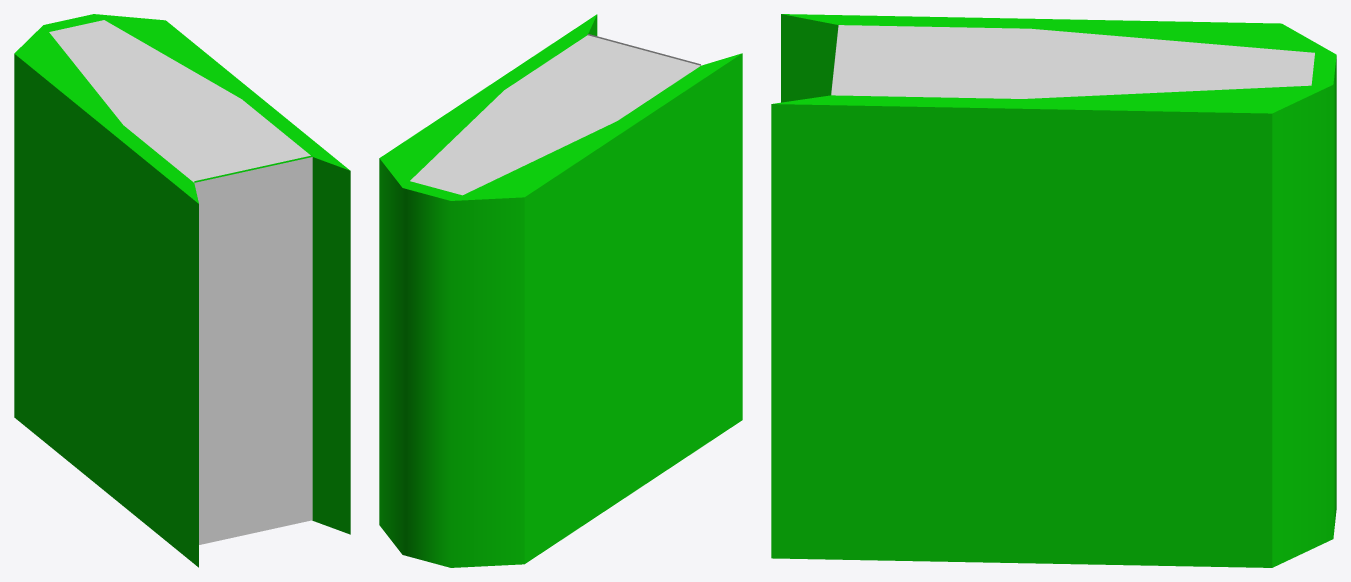
Rendered from Book(Green).fbx.
The picture shows the model from 3 angles, left to right: view 1: azimuth 30°, elevation 25°; view 2: azimuth 150°, elevation 25°; view 3: azimuth 270°, elevation 25°; orthographic projection. The views are drawn at different scales.
Parts seen in each view (by area): view 1: Book_Green; view 2: Book_Green; view 3: Book_Green.
Boxes of the visible parts, <box> form: Book_Green: <box>14,14,350,567</box>; Book_Green: <box>379,14,742,567</box>; Book_Green: <box>771,14,1336,567</box>.
Size of the model in its own units: 0.1932 by 0.4128 by 0.4635.
